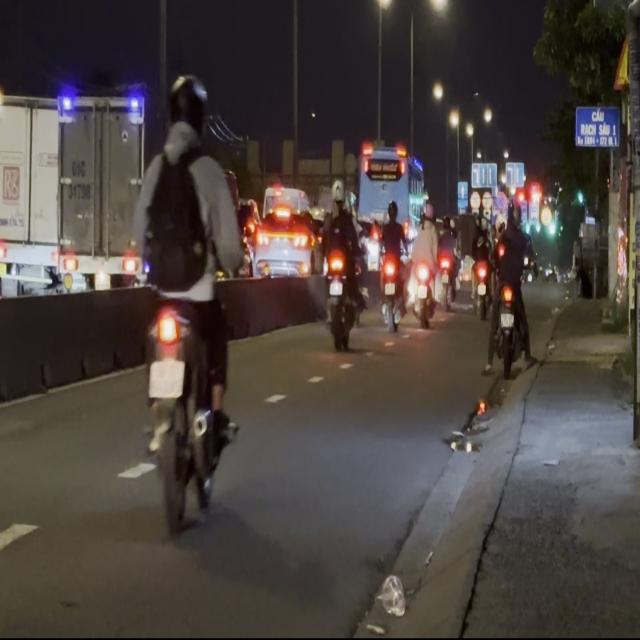helmet: (165, 72, 208, 138)
licenseplate: (133, 69, 243, 532)
nohelmet: (148, 360, 183, 396)
